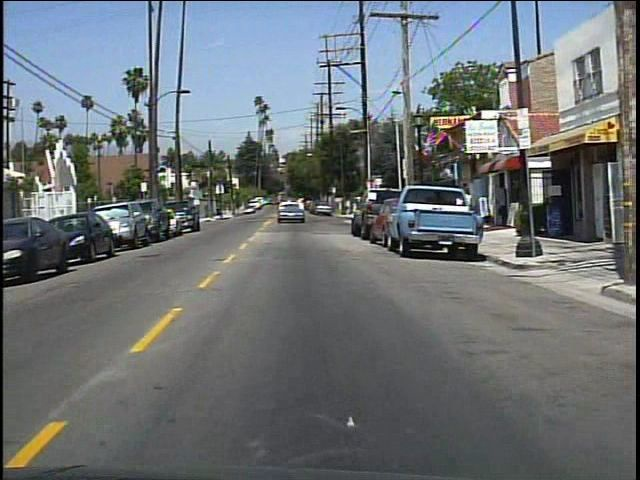person: (456, 186, 478, 232)
